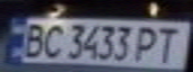3: (63, 21, 87, 60), (112, 23, 136, 62), (97, 22, 118, 61)
4: (81, 21, 100, 61)
B: (18, 20, 51, 58)
C: (36, 21, 66, 60)
P: (133, 22, 163, 63)
T: (151, 24, 187, 63)
